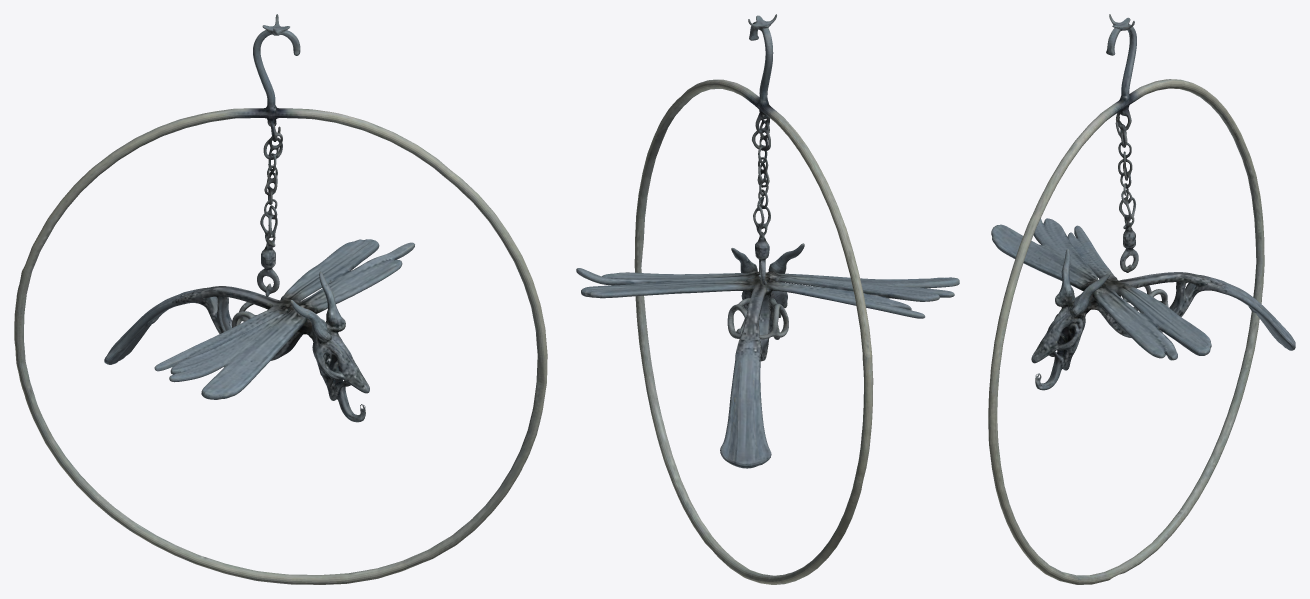
Rendered from dragon catcher.glb.
3 renders of one model, left to right at view 1: azimuth 30°, elevation 25°; view 2: azimuth 150°, elevation 25°; view 3: azimuth 270°, elevation 25°, orthographic. The views are drawn at different scales.
Visible parts, largest first — view 1: tripo_node_22996843-cd1e-440a-95ae-dd0a25ab31b3; view 2: tripo_node_22996843-cd1e-440a-95ae-dd0a25ab31b3; view 3: tripo_node_22996843-cd1e-440a-95ae-dd0a25ab31b3.
Boxes of the visible parts, x1,y1,x2,y2 form: tripo_node_22996843-cd1e-440a-95ae-dd0a25ab31b3: (14,14,547,584); tripo_node_22996843-cd1e-440a-95ae-dd0a25ab31b3: (576,14,959,584); tripo_node_22996843-cd1e-440a-95ae-dd0a25ab31b3: (988,14,1295,584).
Bounding box in the file's own units: 0.6927 × 0.9781 × 0.5079.
Materials: 1 (1 with a texture image).
